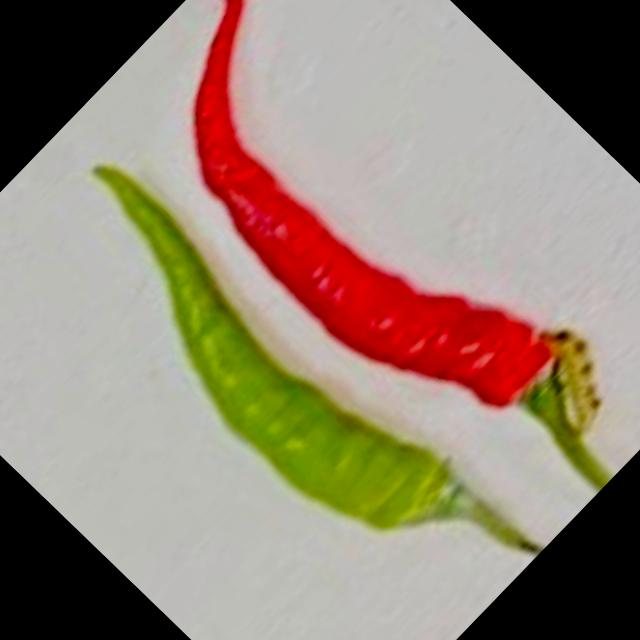Cotton bollworm: (496, 306, 640, 452)
